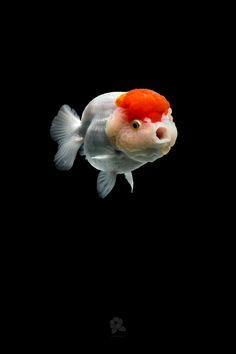goldfish: (39, 67, 196, 227)
